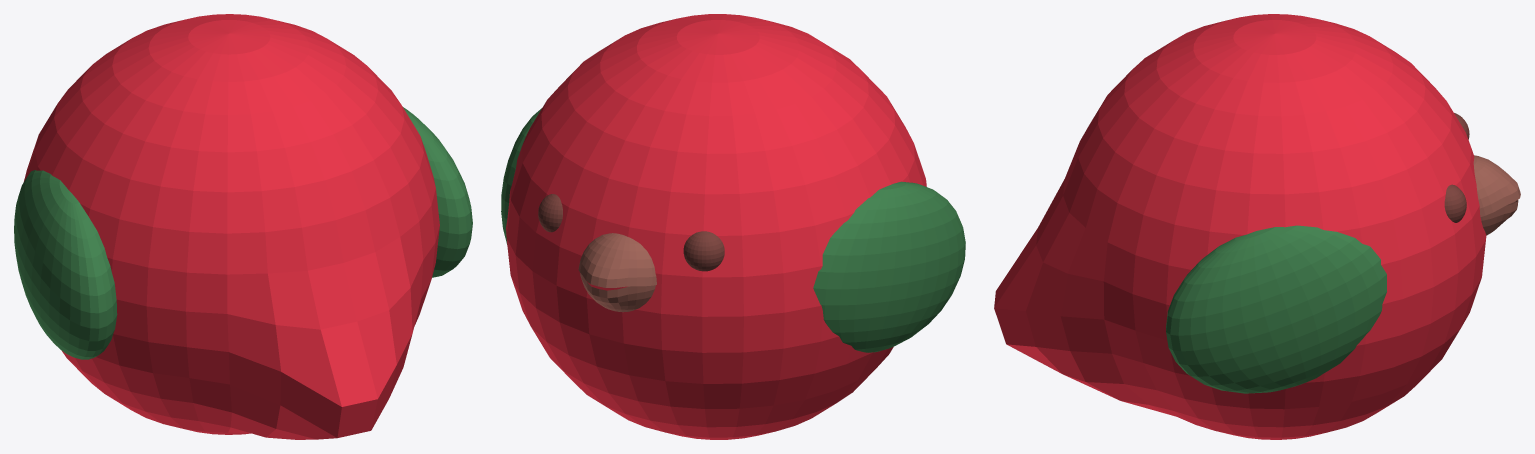
File: project3ani.glb
3 views of the same model, side by side, from view 1: azimuth 30°, elevation 25°; view 2: azimuth 150°, elevation 25°; view 3: azimuth 270°, elevation 25° (orthographic).
Parts seen in each view (by area): view 1: body, Sphere.003, Sphere.002; view 2: body, Sphere.003, beak_Top, beak_bottom, Sphere.004, Sphere.002, Sphere; view 3: body, Sphere.002, beak_Top, Sphere, beak_bottom.
Boxes of the visible parts, x1,y1,x2,y2 form: body: (24, 14, 439, 439); Sphere.003: (14, 170, 117, 359); Sphere.002: (403, 107, 472, 277); body: (506, 14, 926, 439); Sphere.003: (813, 181, 965, 352); beak_Top: (578, 233, 656, 287); beak_bottom: (580, 273, 655, 312); Sphere.004: (683, 231, 724, 271); Sphere.002: (501, 108, 541, 244); Sphere: (538, 194, 562, 232); body: (994, 14, 1486, 439); Sphere.002: (1166, 225, 1386, 393); beak_Top: (1473, 155, 1520, 216); Sphere: (1444, 184, 1466, 222); beak_bottom: (1480, 200, 1518, 235).
Bounding box in the file's own units: 0.2177 × 0.1948 × 0.2406.
